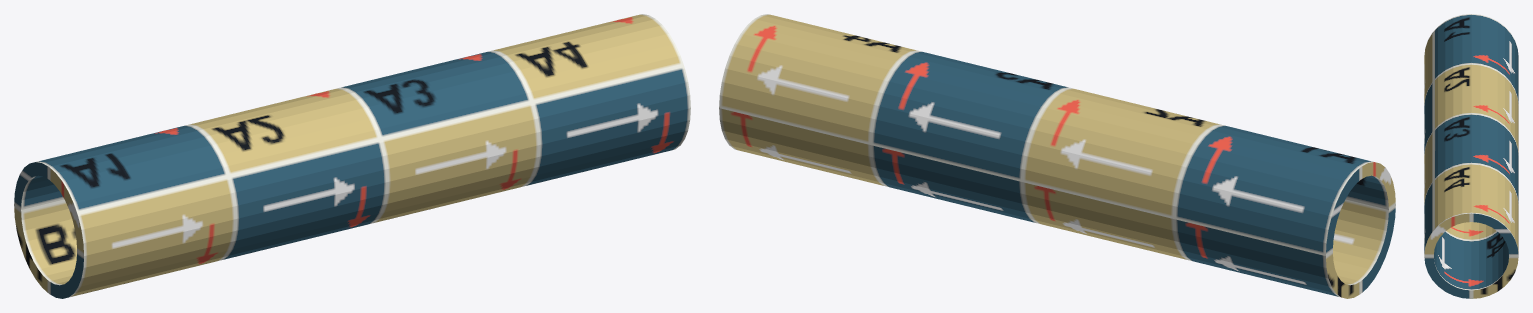
Rendered from PIPE_Straight_1m.fbx.
The picture shows the model from 3 angles, left to right: view 1: azimuth 30°, elevation 25°; view 2: azimuth 150°, elevation 25°; view 3: azimuth 270°, elevation 25°; orthographic projection. The views are drawn at different scales.
Parts seen in each view (by area): view 1: PIPE_Straight_1m; view 2: PIPE_Straight_1m; view 3: PIPE_Straight_1m.
Part boxes in pixels (x1=…): PIPE_Straight_1m: x1=14, y1=14, x2=690, y2=298; PIPE_Straight_1m: x1=719, y1=14, x2=1395, y2=298; PIPE_Straight_1m: x1=1424, y1=14, x2=1518, y2=298.
Size of the model in its own units: 100 by 20 by 20.
1 material, 1 textured.
